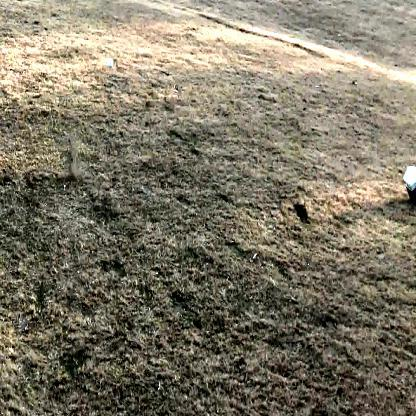ClubHead: (106, 57, 114, 69)
